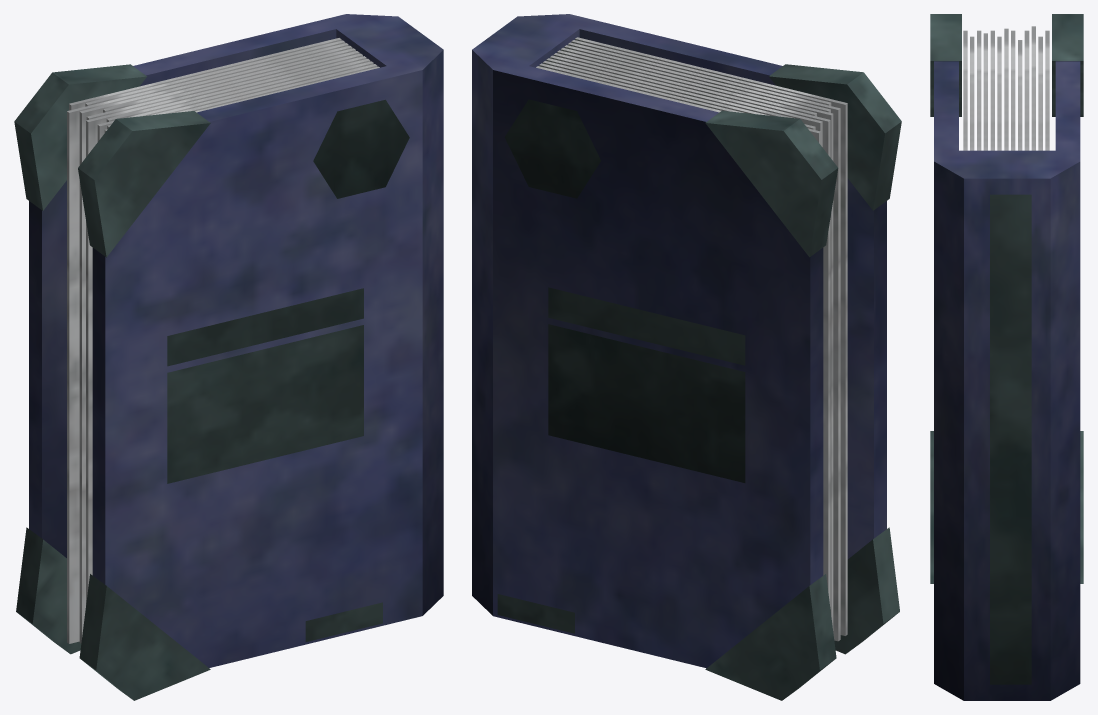
File: Book2_SM.fbx
3 views of the same model, side by side, from view 1: azimuth 30°, elevation 25°; view 2: azimuth 150°, elevation 25°; view 3: azimuth 270°, elevation 25° (orthographic). The views are drawn at different scales.
Visible parts, largest first — view 1: Book_SM001; view 2: Book_SM001; view 3: Book_SM001.
Part boxes in pixels (<box>): Book_SM001: <box>14,14,443,700</box>; Book_SM001: <box>472,14,901,700</box>; Book_SM001: <box>930,14,1083,700</box>.
Size of the model in its own units: 28.54 by 42.4 by 10.81.
